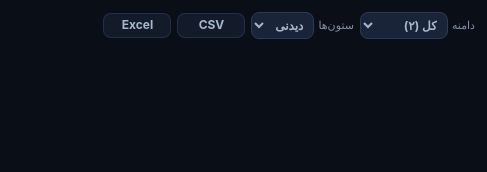
کنترلِ خروجی — مسیرِ واقعیِ دانلود › سرریزِ پاسخِ سرور ⇒ متنِ خطا درِ همان جایِ ثابت (بی‌layout shift)
Step 1. Click the button with test id "ctl-xlsx" → (138, 26), box [104,13,172,38]
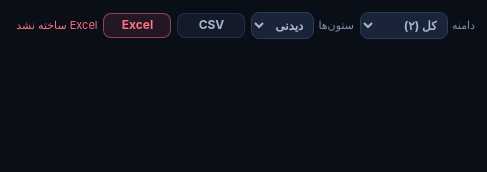
Check: the text with test id "ctl-error" shows "Excel", box [16,18,98,32]
